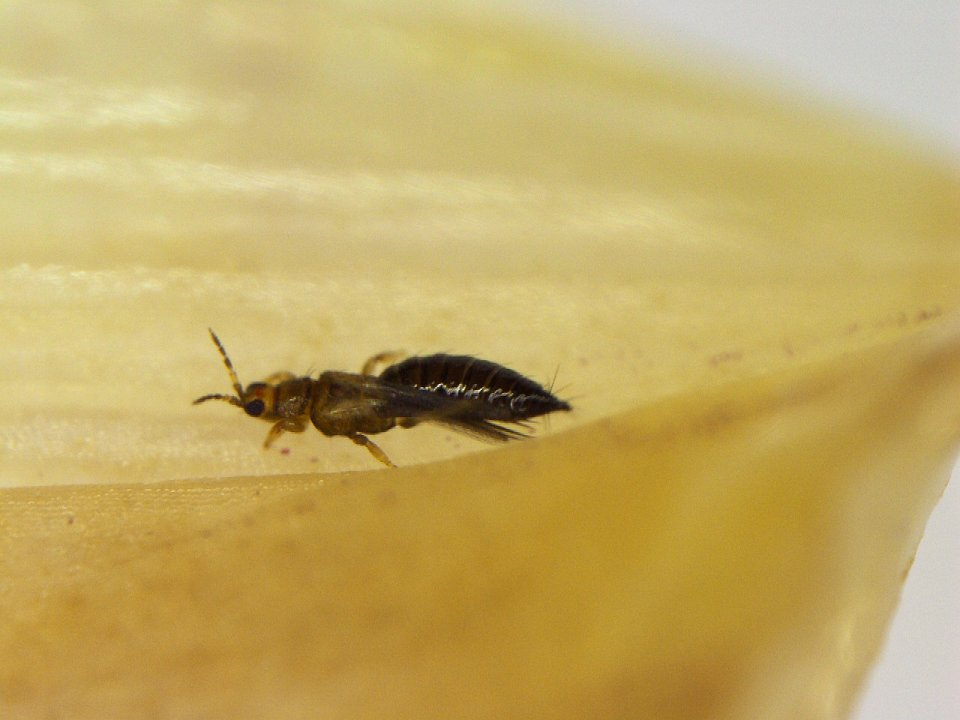Thrips: (169, 326, 591, 486)
